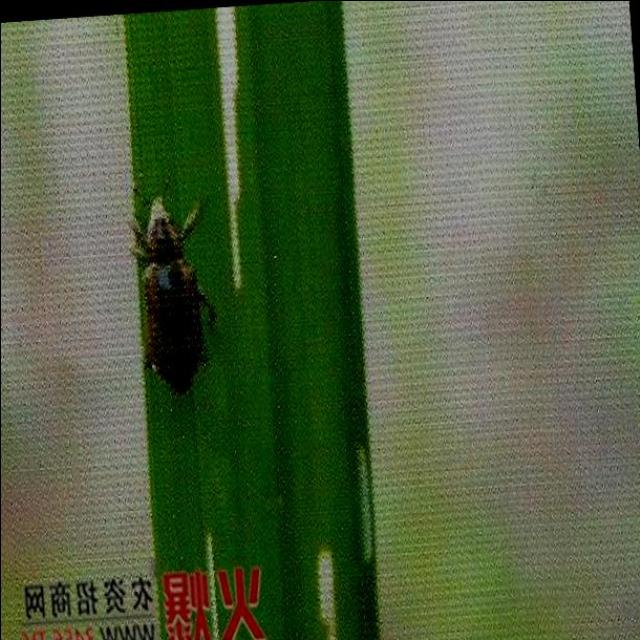ricebug: (133, 197, 206, 393)
